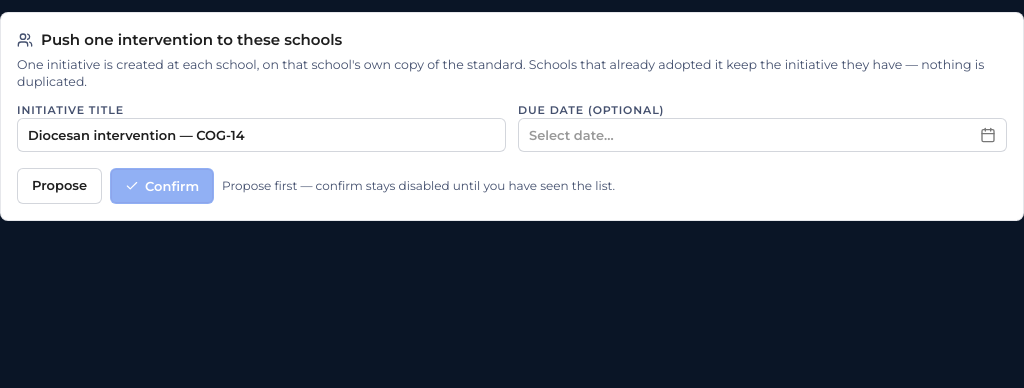
Test: WEB-7 — the applied panel says what DID happen, and names what failed › a school where the write FAILED does not render identically to one that succeeded
Click the button "Propose". click: (60, 186)
box: [17,168,102,204]
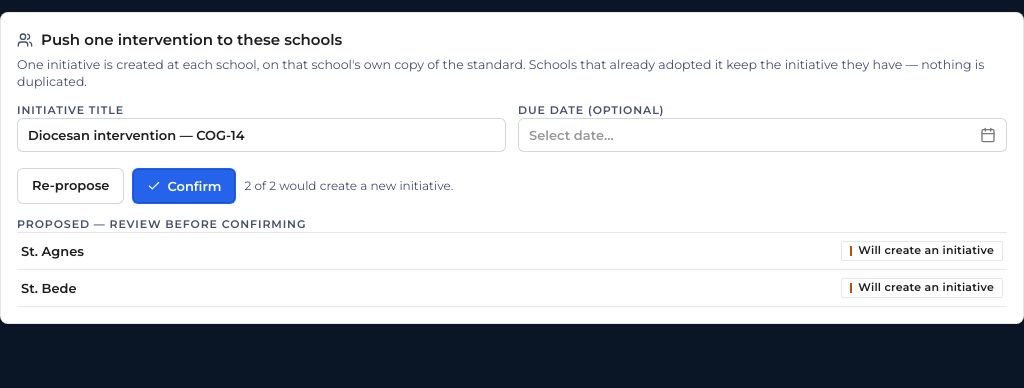
Check: the button "Confirm" is enabled
Click the button "Confirm". click: (184, 186)
box: [132,168,236,204]
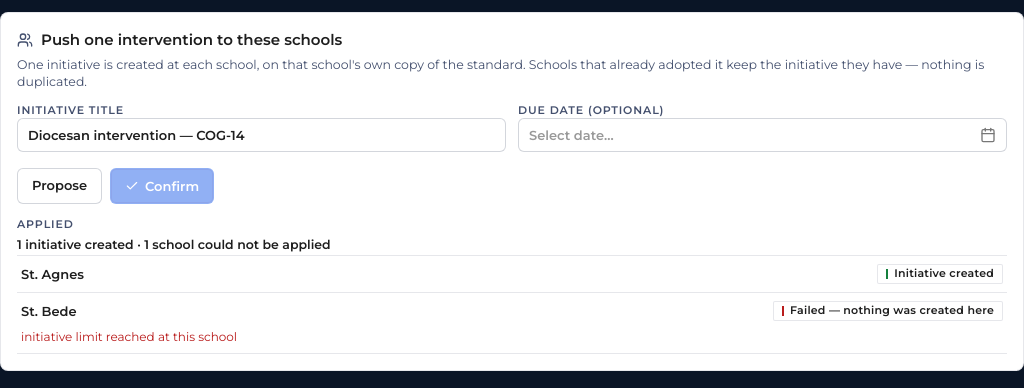
Check: the text "Applied" is shown, box [17,217,74,231]
Check: the list item that starts with "St. Bede" shows "Failed", box [790,303,994,317]
Check: the list item that starts with "St. Bede" shows "initiative limit reached", box [21,329,237,344]
